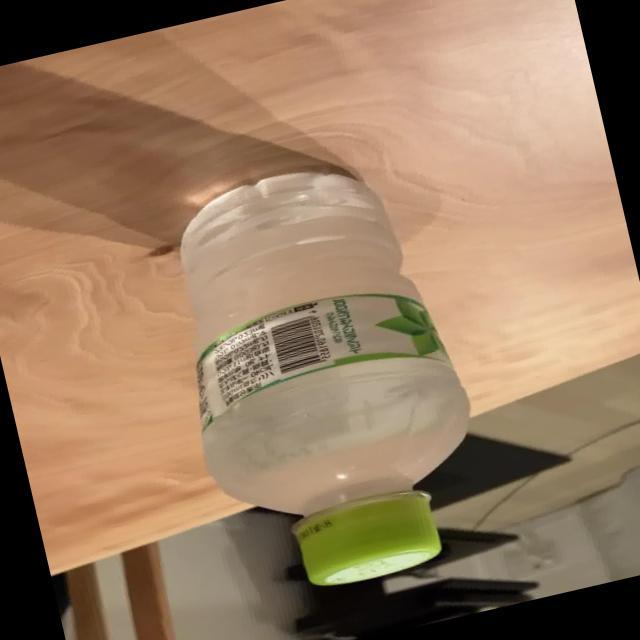good: (141, 142, 506, 612)
